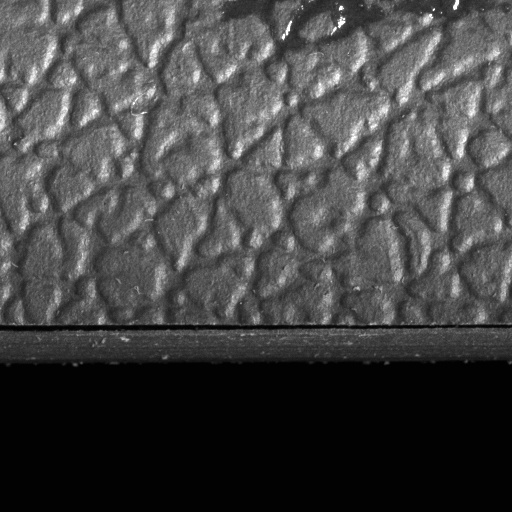jiaofeng: (0, 321, 511, 341)
